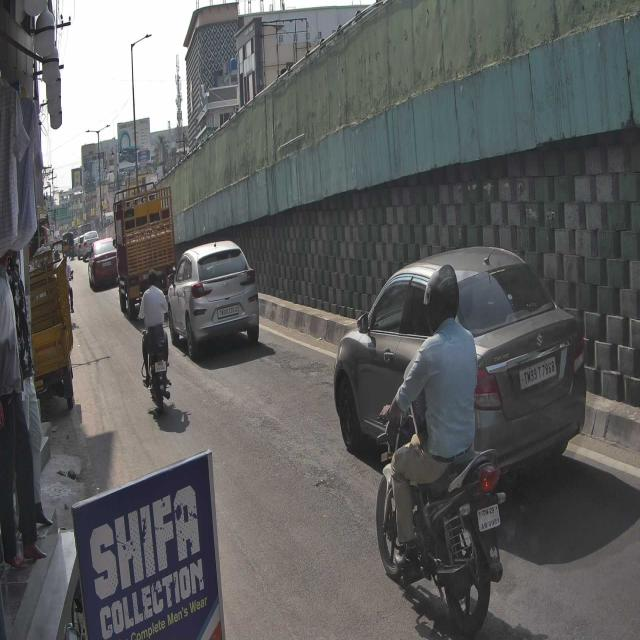single_rider: (374, 262, 506, 640)
